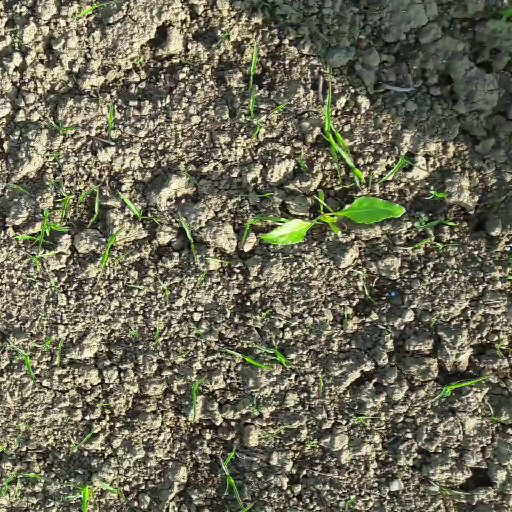sugarbeet: (259, 189, 406, 246)
weed: (3, 179, 200, 293), (319, 72, 415, 191), (1, 470, 130, 512), (46, 102, 116, 169), (8, 335, 67, 383), (414, 187, 456, 252), (215, 446, 256, 512), (423, 371, 494, 405), (239, 214, 289, 248), (224, 346, 289, 372), (424, 481, 482, 500), (1, 422, 28, 456), (188, 377, 205, 426), (249, 41, 258, 121), (128, 325, 167, 343), (75, 1, 116, 17), (70, 429, 95, 452), (347, 414, 384, 426)
